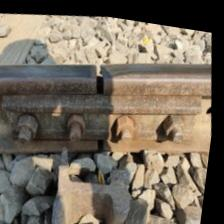person: (73, 47, 129, 103), (90, 127, 117, 152)
